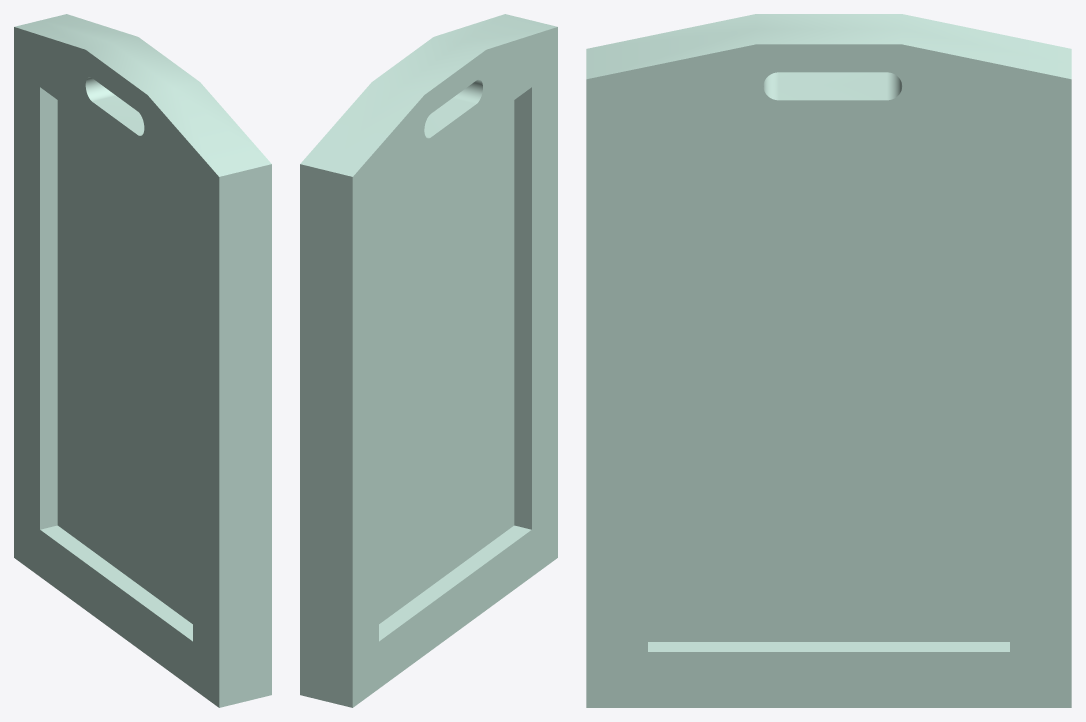
3 renders of one model, left to right at view 1: azimuth 30°, elevation 25°; view 2: azimuth 150°, elevation 25°; view 3: azimuth 270°, elevation 25°, orthographic. The views are drawn at different scales.
Visible parts, largest first — view 1: Renderer Node; view 2: Renderer Node; view 3: Renderer Node.
Part boxes in pixels (box(x1,y1,x2,y2)): Renderer Node: box(14, 14, 271, 707); Renderer Node: box(300, 14, 557, 707); Renderer Node: box(586, 14, 1071, 707).
Bounding box in the file's own units: 0.1406 × 1.43 × 0.9481.
